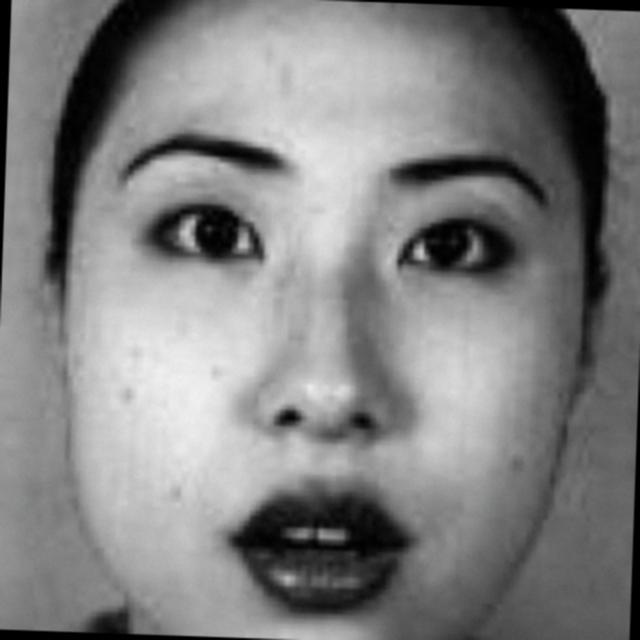surprise: (77, 39, 590, 640)
